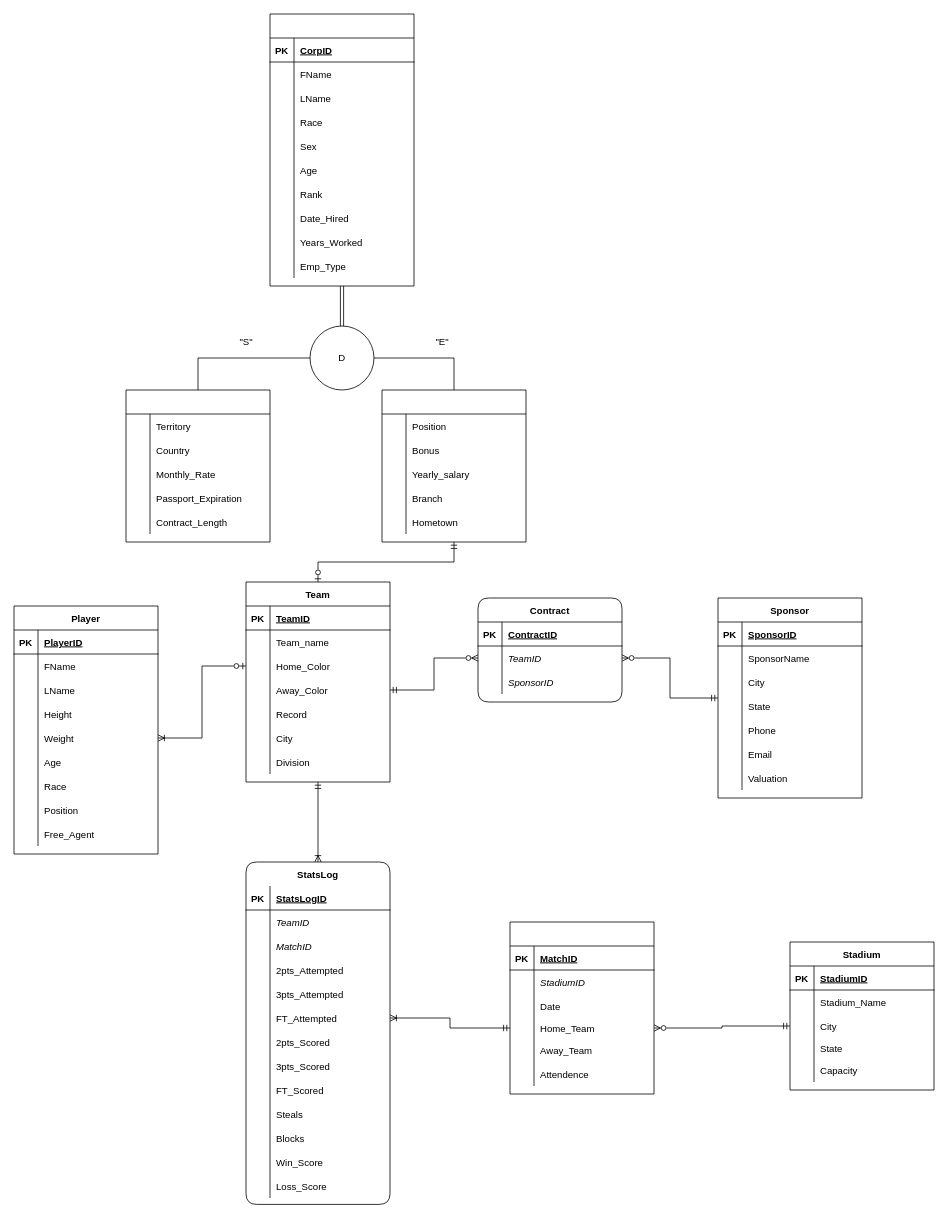
This 948x1218 diagram has some shape labels left out. The box of each missing label's shape, as (x1, y1, x2, y2) in pixels:
Executive: (381, 389, 526, 542)
Front_Office: (269, 13, 414, 286)
Matches: (509, 921, 654, 1094)
Sales_Manager: (125, 389, 270, 542)
